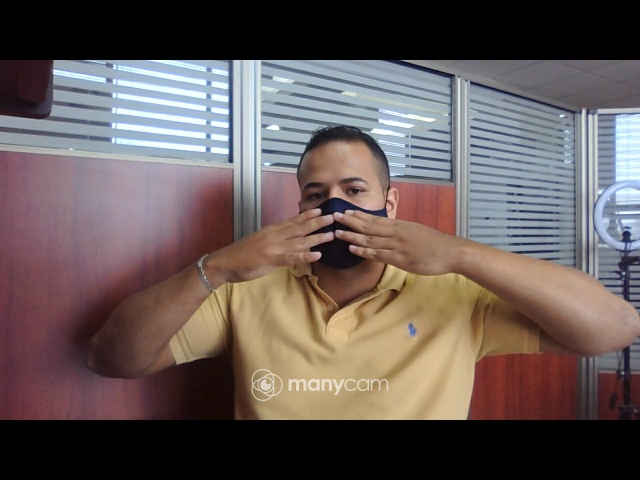Thanks: (226, 207, 485, 292)
